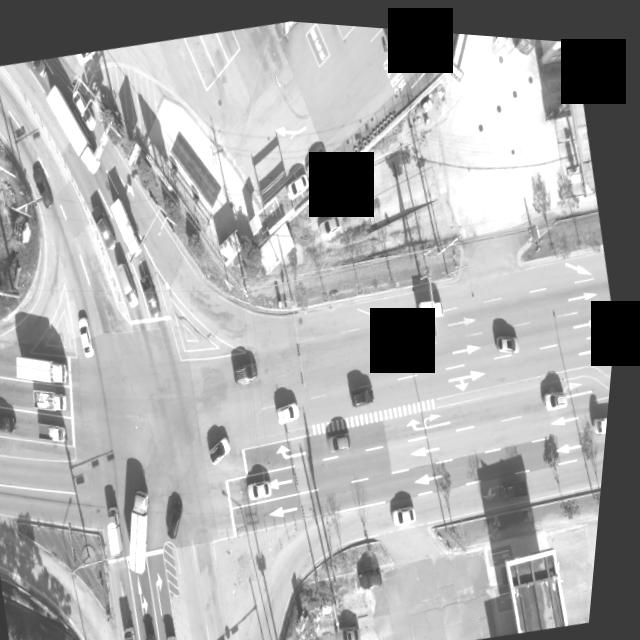car: (141, 259, 171, 316), (92, 198, 124, 248), (117, 255, 147, 305), (171, 491, 201, 537), (70, 87, 101, 131), (33, 160, 61, 208), (79, 310, 102, 354), (210, 428, 241, 460), (304, 142, 333, 173), (286, 166, 315, 196), (383, 22, 413, 50), (238, 354, 268, 381), (0, 408, 26, 435), (389, 343, 417, 368), (280, 394, 307, 419), (365, 560, 393, 584), (547, 378, 575, 402), (319, 206, 345, 231), (398, 495, 425, 519), (253, 472, 280, 496), (356, 378, 382, 402), (500, 322, 526, 346), (333, 424, 359, 447), (348, 615, 372, 638), (34, 57, 50, 78), (0, 371, 6, 401)
medium_truck: (41, 73, 111, 180), (123, 485, 175, 575), (16, 339, 78, 391), (105, 188, 149, 256), (438, 26, 497, 76)
small_truck: (110, 501, 138, 555), (38, 382, 77, 414), (41, 413, 75, 444), (420, 286, 450, 312), (129, 622, 156, 640), (598, 399, 615, 423), (154, 629, 178, 640), (175, 634, 196, 640)
